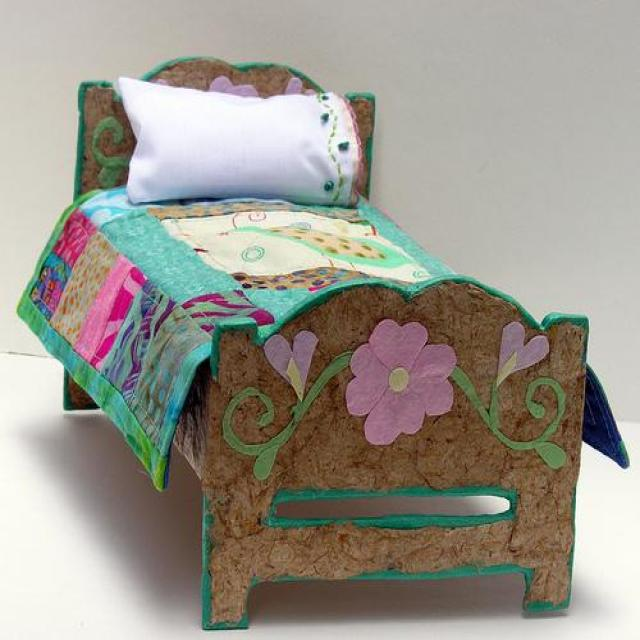bed: (59, 59, 634, 635)
